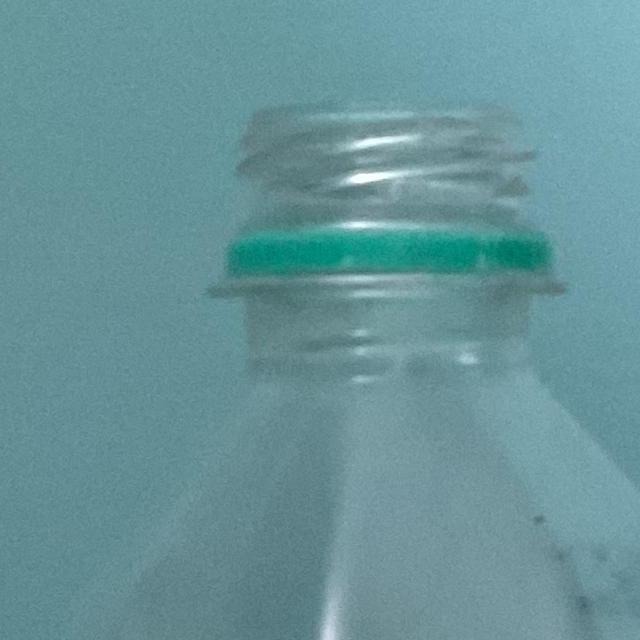open-cap: (225, 87, 580, 306)
